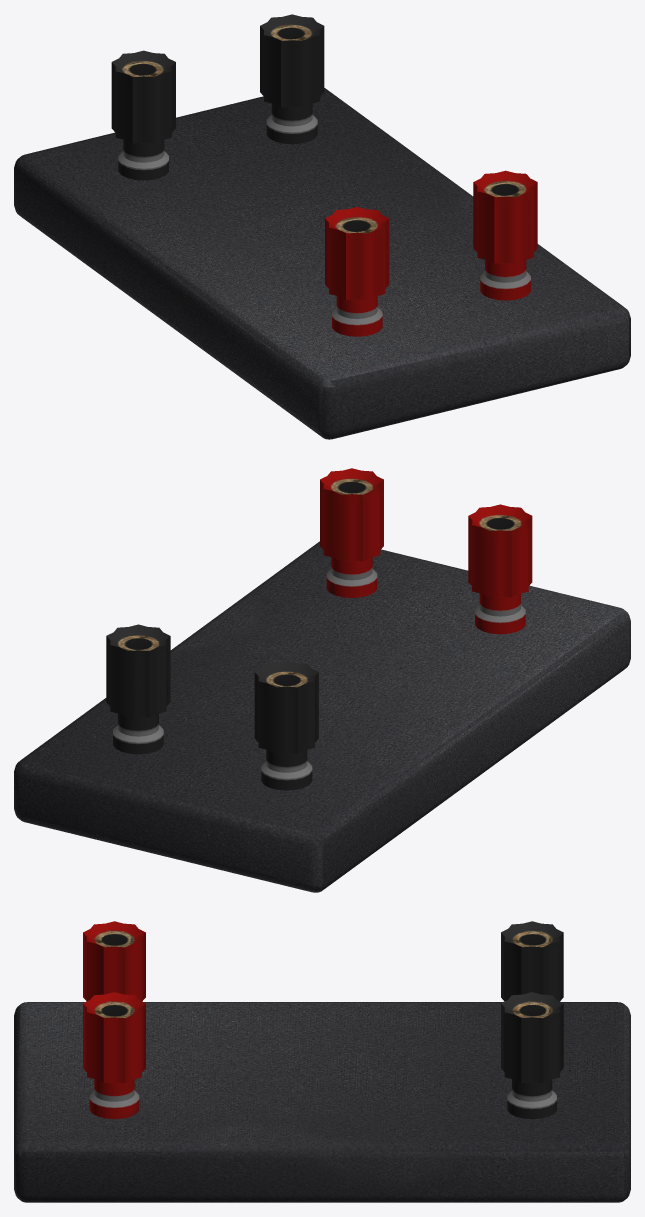
Rendered from Electro05_4.FBX.
The picture shows the model from 3 angles, top to bottom: view 1: azimuth 30°, elevation 25°; view 2: azimuth 150°, elevation 25°; view 3: azimuth 270°, elevation 25°; orthographic projection. The views are drawn at different scales.
Visible parts, largest first — view 1: Electro05_4; view 2: Electro05_4; view 3: Electro05_4.
Part boxes in pixels (left/top/right/bottom): Electro05_4: left=14, top=14, right=630, bottom=439; Electro05_4: left=14, top=468, right=630, bottom=892; Electro05_4: left=14, top=921, right=630, bottom=1202.
Bounding box in the file's own units: 30.89 × 15.86 × 54.13.
